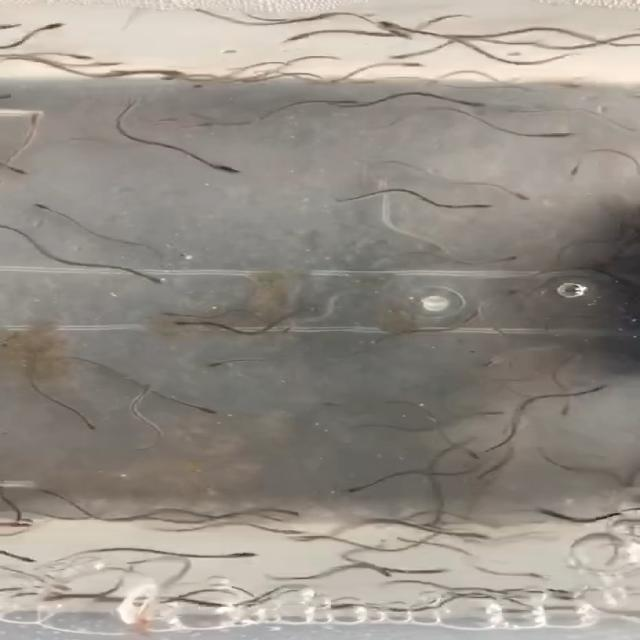active_glass_eel: (113, 600, 177, 624), (140, 270, 198, 296), (578, 377, 622, 405), (57, 410, 111, 432), (28, 12, 72, 38), (490, 238, 524, 268), (34, 482, 78, 505), (161, 310, 205, 332), (8, 516, 54, 536), (226, 549, 264, 573), (546, 402, 587, 424), (338, 474, 379, 496), (206, 354, 250, 374), (375, 15, 423, 33), (270, 30, 317, 48), (472, 401, 508, 424), (272, 495, 308, 518), (192, 401, 238, 418), (339, 90, 372, 112), (544, 163, 584, 181), (478, 351, 515, 370), (0, 163, 53, 176), (123, 383, 165, 399), (549, 126, 581, 146), (26, 195, 58, 215), (453, 448, 495, 463), (497, 288, 534, 305), (19, 551, 47, 573), (269, 527, 313, 541), (466, 530, 502, 547), (19, 107, 55, 124), (428, 560, 454, 583), (503, 192, 538, 209), (390, 58, 431, 72), (72, 60, 142, 68), (470, 196, 496, 217), (182, 1, 205, 24), (461, 98, 496, 113), (215, 160, 241, 179), (364, 565, 396, 579), (70, 50, 97, 66), (151, 67, 193, 77), (387, 50, 416, 64), (523, 571, 551, 584), (326, 398, 344, 412)
